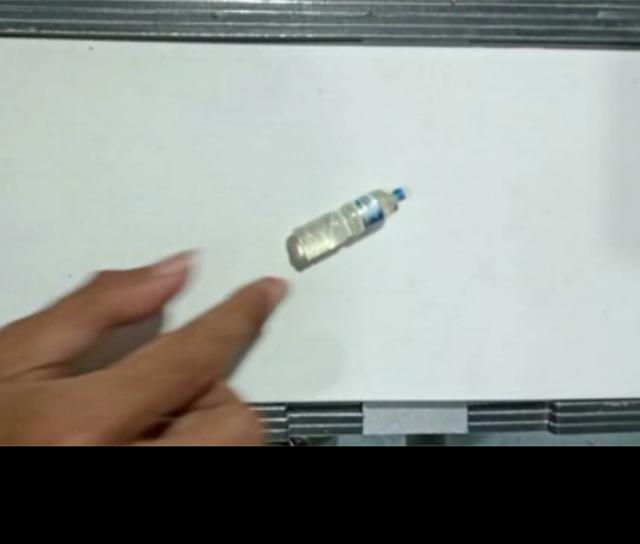Plastik: (291, 187, 408, 263)
